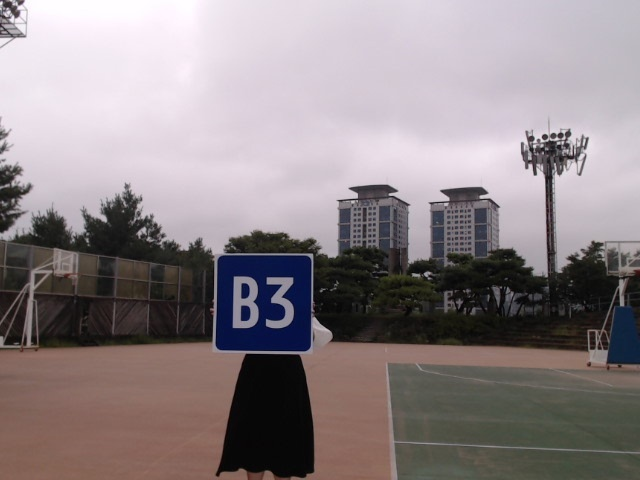delivery_b3: (214, 253, 313, 351)
